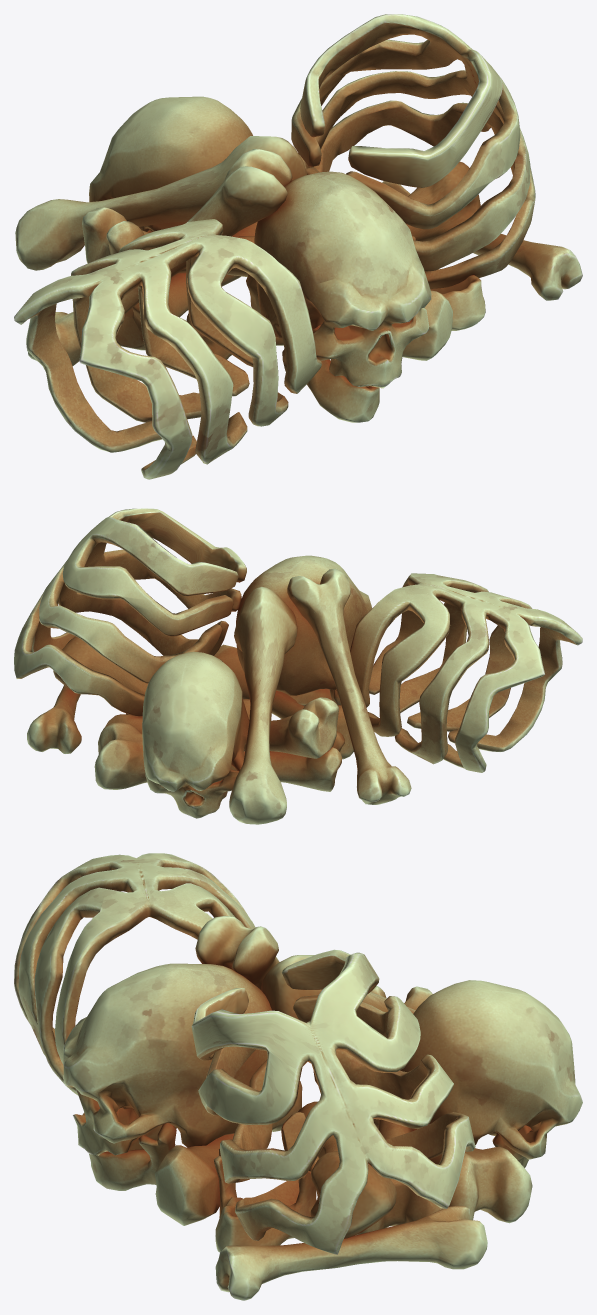
File: pileofbones1.glb
3 views of the same model, one above another, from view 1: azimuth 30°, elevation 25°; view 2: azimuth 150°, elevation 25°; view 3: azimuth 270°, elevation 25° (orthographic). The views are drawn at different scales.
Parts seen in each view (by area): view 1: pileofbones1; view 2: pileofbones1; view 3: pileofbones1.
Part boxes in pixels (x1,y1,x2,y2): pileofbones1: [14, 14, 582, 479]; pileofbones1: [14, 508, 582, 824]; pileofbones1: [14, 853, 582, 1300].
Bounding box in the file's own units: 9.05 × 4.26 × 7.21.
1 material, 1 textured.
